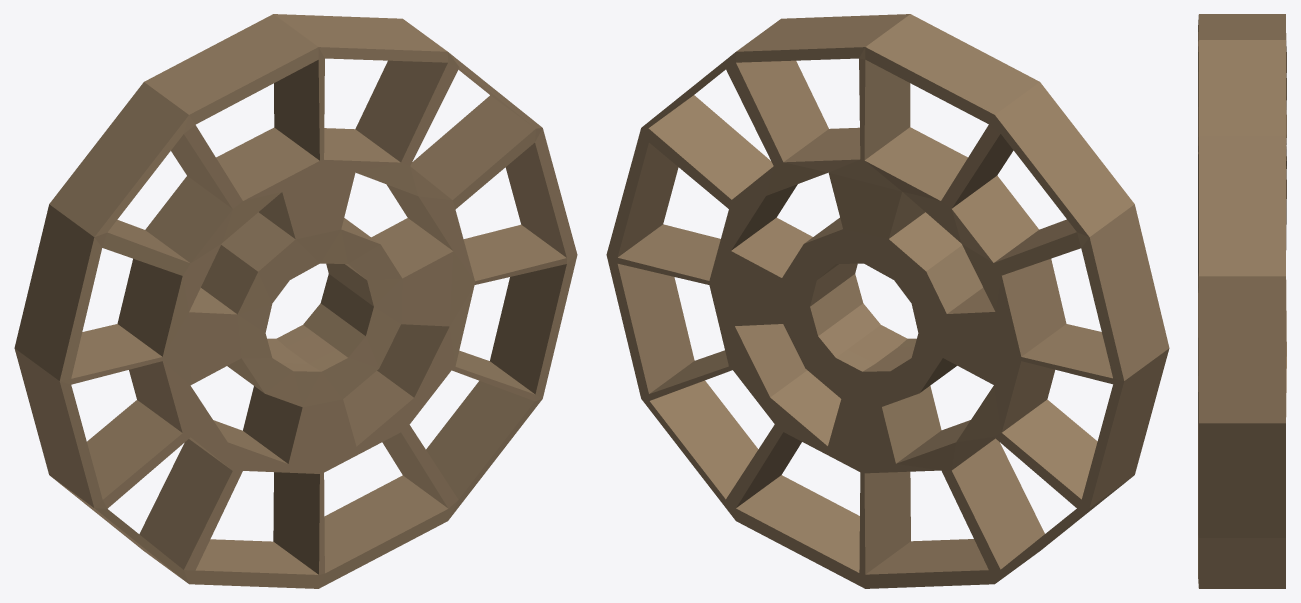
Rendered from JanelaCircular.fbx.
3 views of the same model, side by side, from view 1: azimuth 30°, elevation 25°; view 2: azimuth 150°, elevation 25°; view 3: azimuth 270°, elevation 25° (orthographic). The views are drawn at different scales.
Visible parts, largest first — view 1: JanelaCircular; view 2: JanelaCircular; view 3: JanelaCircular.
Boxes of the visible parts, x1,y1,x2,y2 form: JanelaCircular: (14, 14, 577, 588); JanelaCircular: (606, 14, 1169, 588); JanelaCircular: (1198, 14, 1286, 588).
Bounding box in the file's own units: 845 × 845 × 130.
